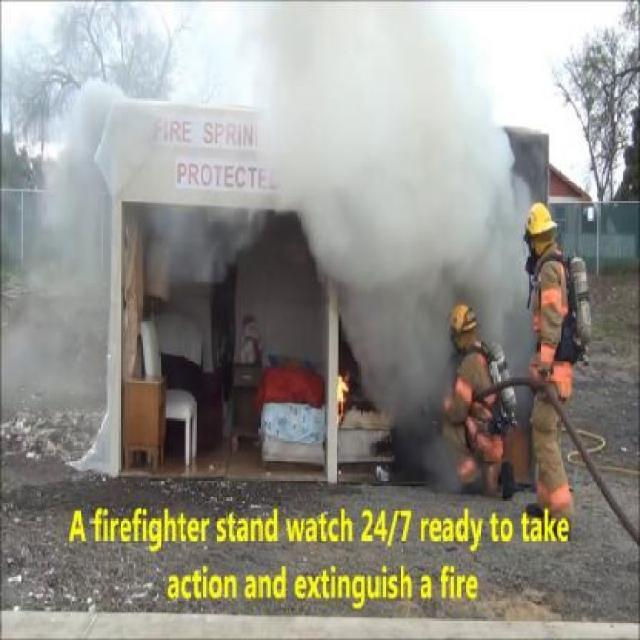fire: (328, 356, 356, 432)
smoke: (12, 16, 590, 524)
